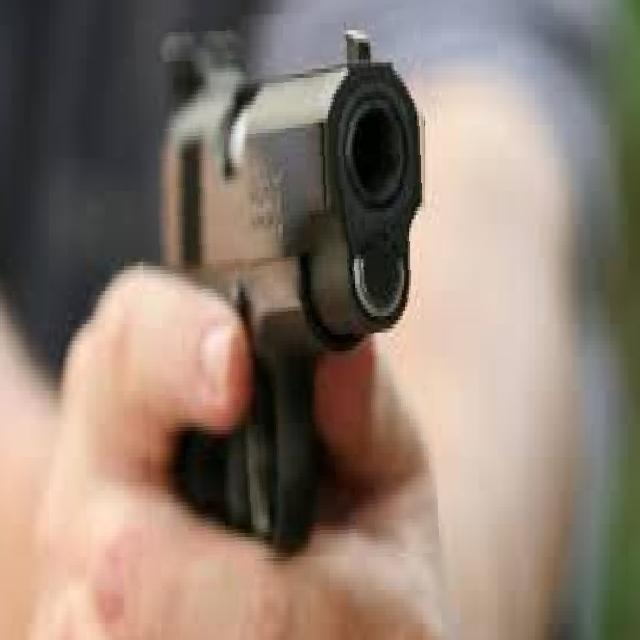Gun_Holder: (40, 34, 502, 640)
